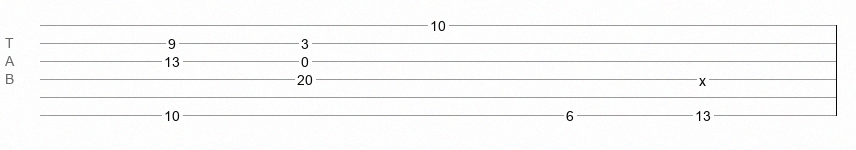0: (301, 54, 309, 64)
10: (164, 108, 180, 118), (430, 18, 446, 28)
13: (164, 54, 180, 64), (695, 108, 711, 118)
20: (297, 72, 313, 82)
3: (301, 36, 309, 46)
6: (566, 108, 574, 118)
9: (168, 36, 176, 46)
x: (699, 73, 706, 81)
